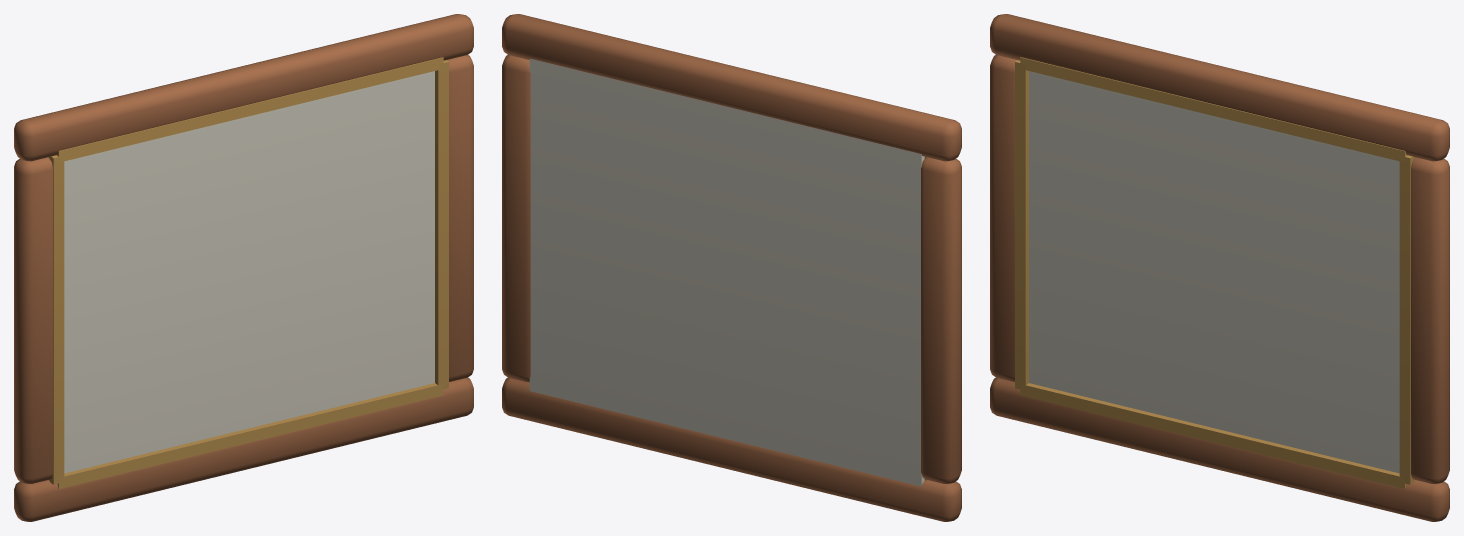
The model's file is decor-frame.glb.
3 renders of one model, left to right at view 1: azimuth 30°, elevation 25°; view 2: azimuth 150°, elevation 25°; view 3: azimuth 330°, elevation 25°, orthographic.
Visible parts, largest first — view 1: decor-frame; view 2: decor-frame; view 3: decor-frame.
Boxes of the visible parts, box(x1,y1,x2,y2) form: decor-frame: box(14, 14, 473, 521); decor-frame: box(502, 14, 961, 521); decor-frame: box(990, 14, 1449, 521).
Bounding box in the file's own units: 1.25 × 1.05 × 0.07.
